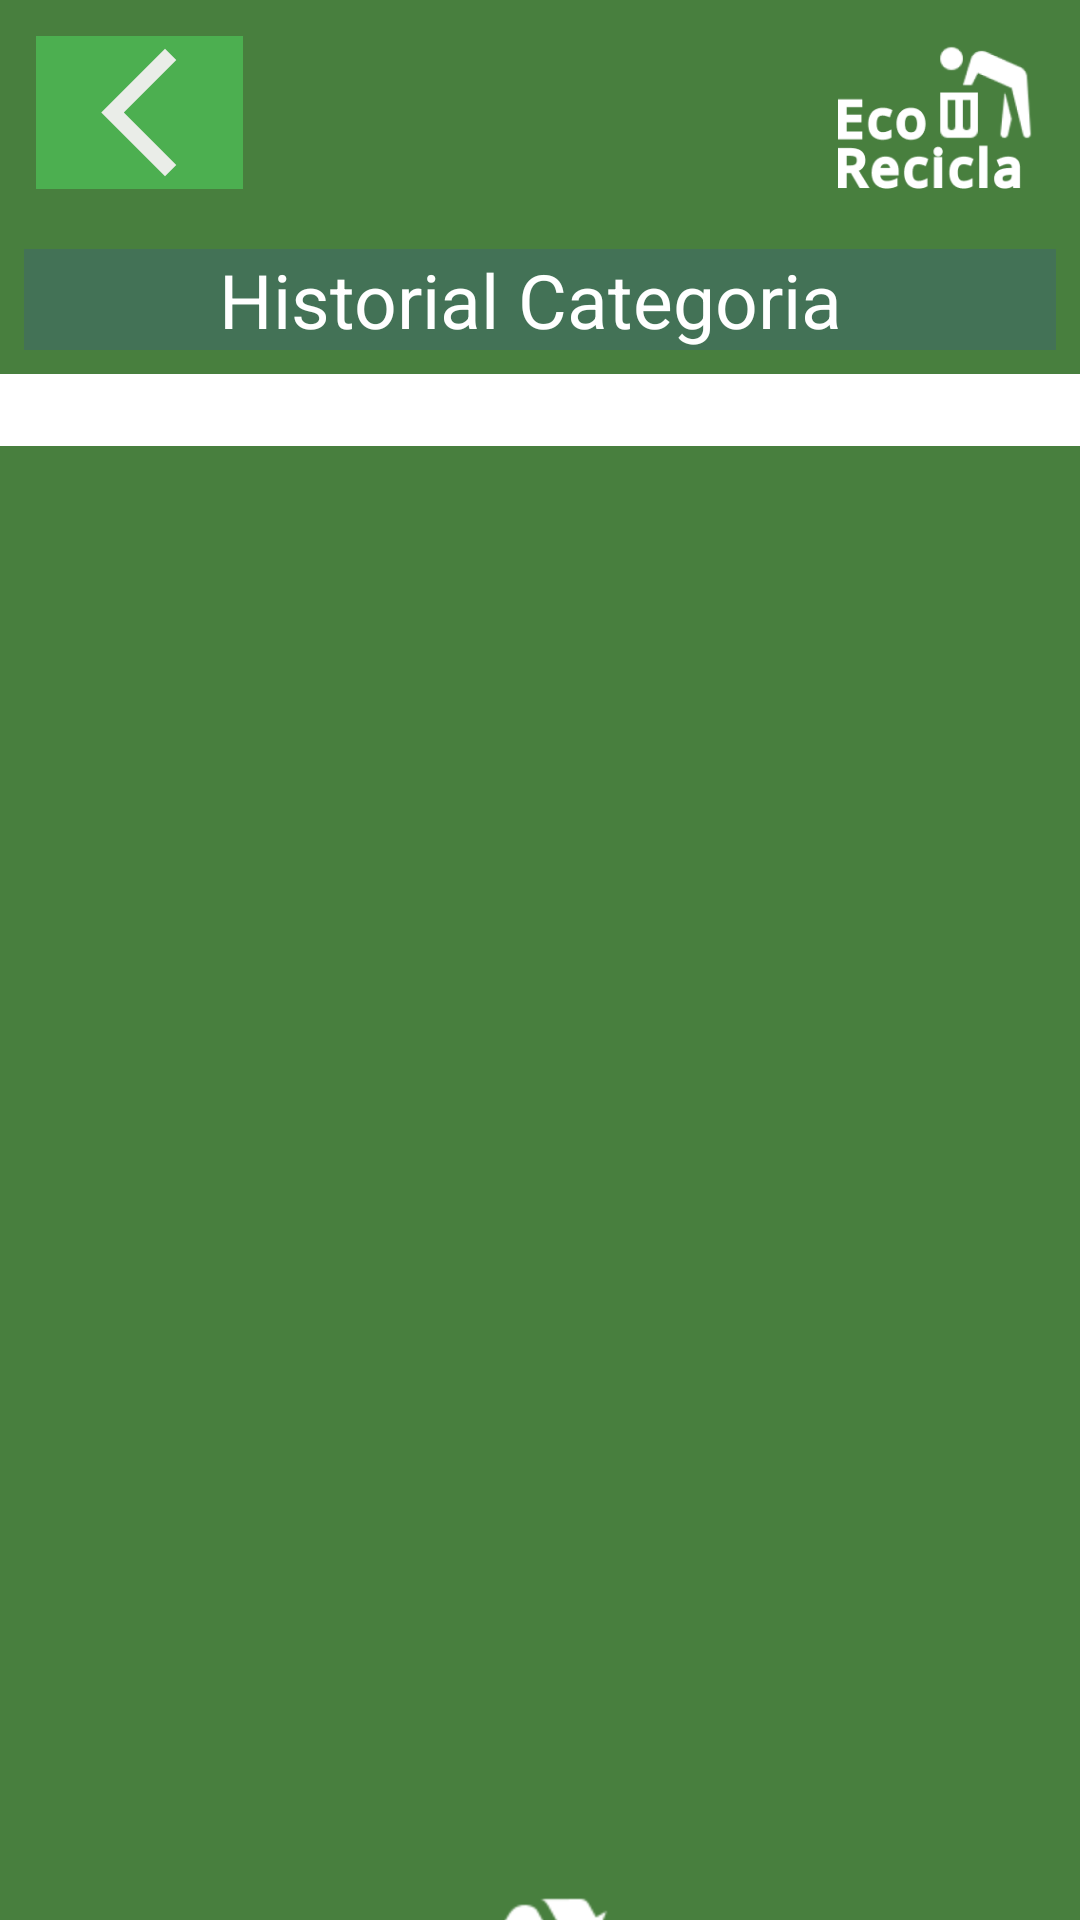

Named icons in this screenshot (1080*1920) and their bounding boxes, detection(x1, y1, x2, y2):
back: detection(36, 36, 243, 189)
